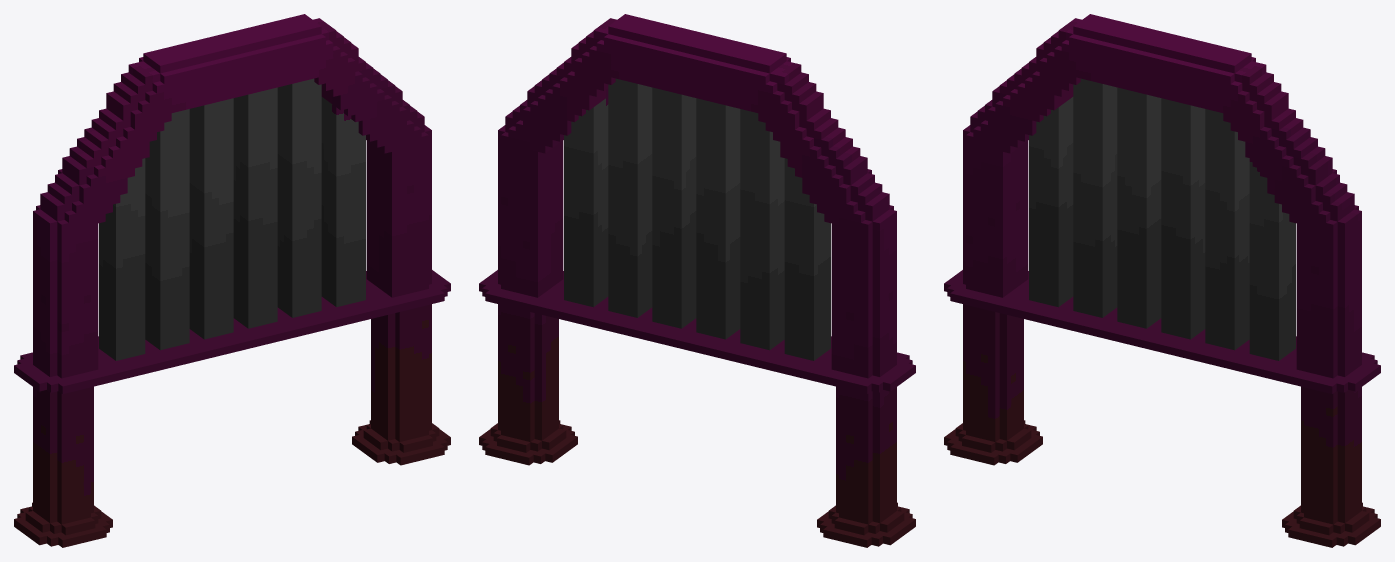
Rendered from door_3.glb.
3 views of the same model, side by side, from view 1: azimuth 30°, elevation 25°; view 2: azimuth 150°, elevation 25°; view 3: azimuth 330°, elevation 25° (orthographic).
Parts seen in each view (by area): view 1: door3; view 2: door3; view 3: door3.
Part boxes in pixels (x1,y1,x2,y2): door3: [14, 14, 450, 547]; door3: [479, 14, 915, 547]; door3: [944, 14, 1380, 547].
Bounding box in the file's own units: 5.6 × 5.8 × 1.
1 material, 1 textured.
